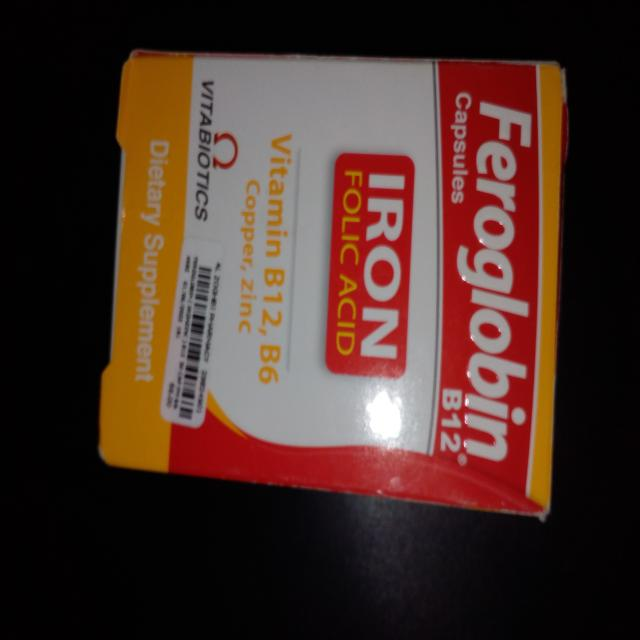Medicine: (91, 31, 565, 522)
